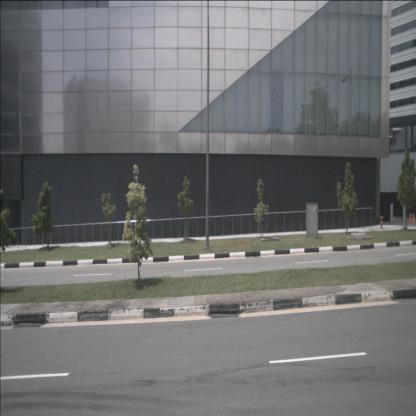movable_object-trafficcone: (408, 212, 413, 226), (412, 212, 416, 226)
